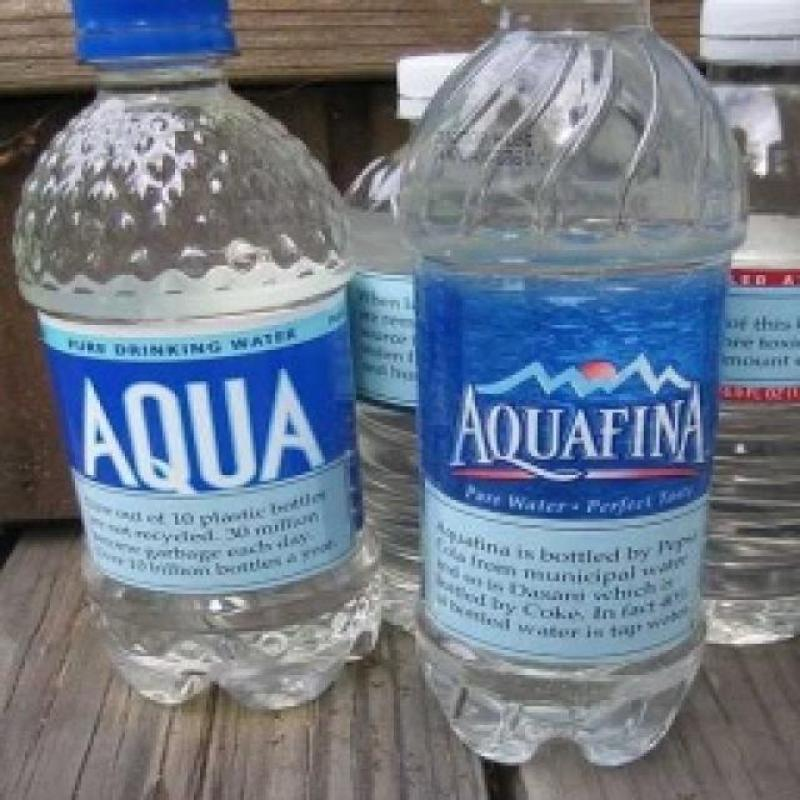botella: (12, 0, 387, 712), (412, 0, 709, 772), (354, 57, 477, 642), (702, 0, 800, 650)
